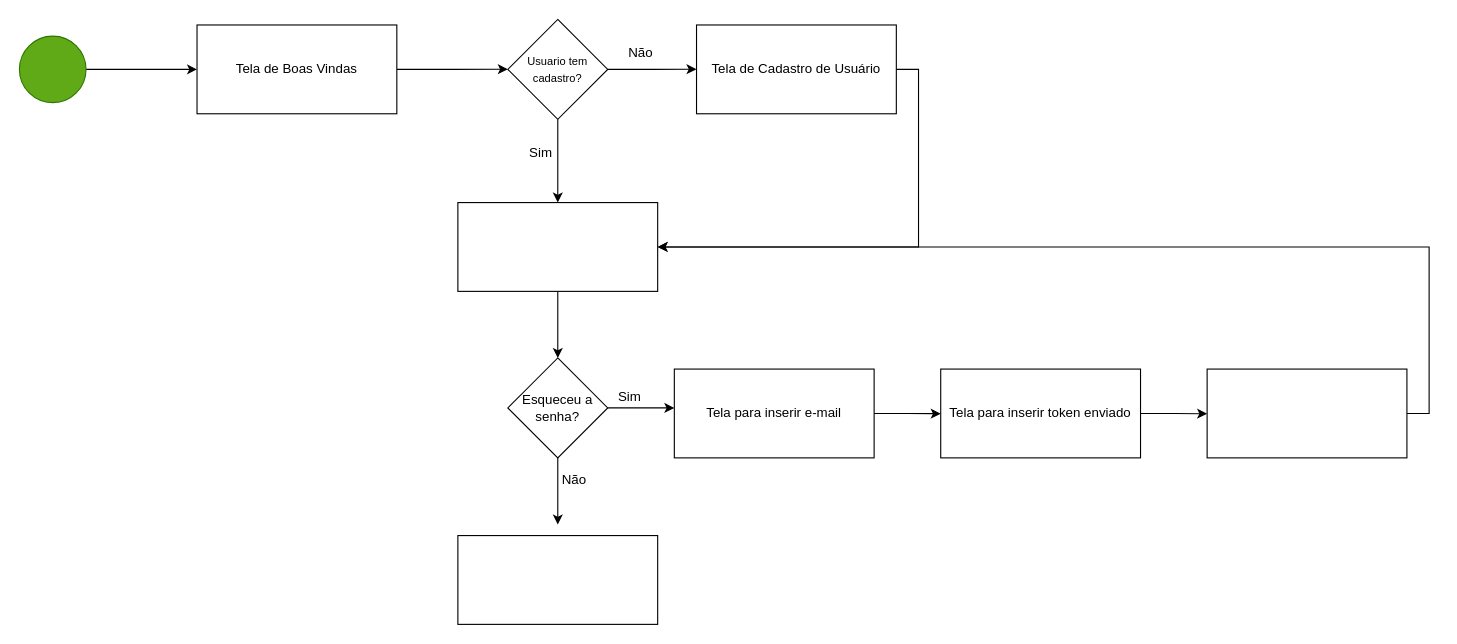
Image size: 1457x644. Some labels were removed from this diagram. The shapes that lost their labels are listed below. From the top down, each one's box as (x1, y1, x2, y2) in pixels, then its label:
(457, 201, 658, 291): Tela de Login
(1206, 368, 1407, 458): Tela para inserir nova senha
(457, 534, 658, 624): Tela inicial
